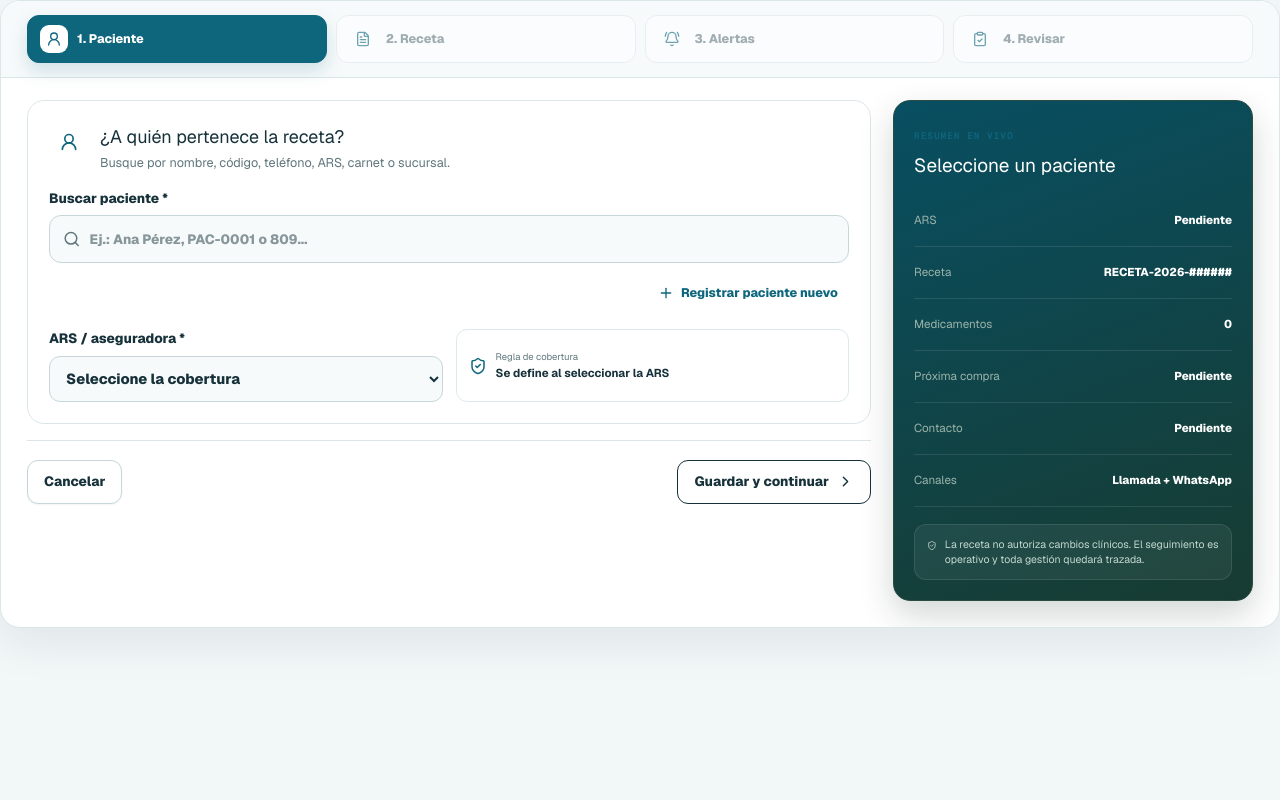
Test case: NewPlanWorkspace › selecciona un paciente canónico y muestra su capacidad de contacto
This screenshot has width=1280, height=800.
Type "ana" into the search field labelled "Buscar paciente".
click(462, 239); type("ana")  # box [89,230,835,249]
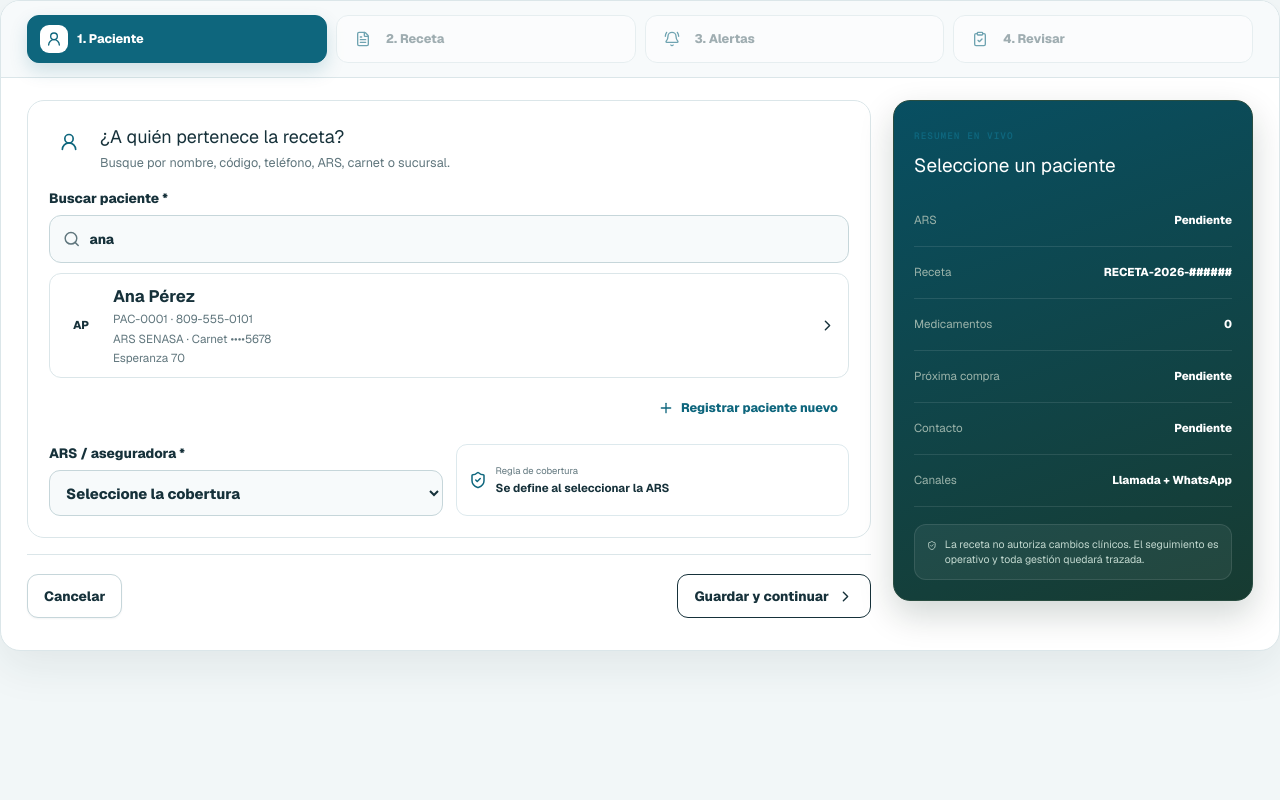
Click the button with aria-label "Seleccionar Ana Pérez".
click(154, 296)  # box [49,273,849,378]
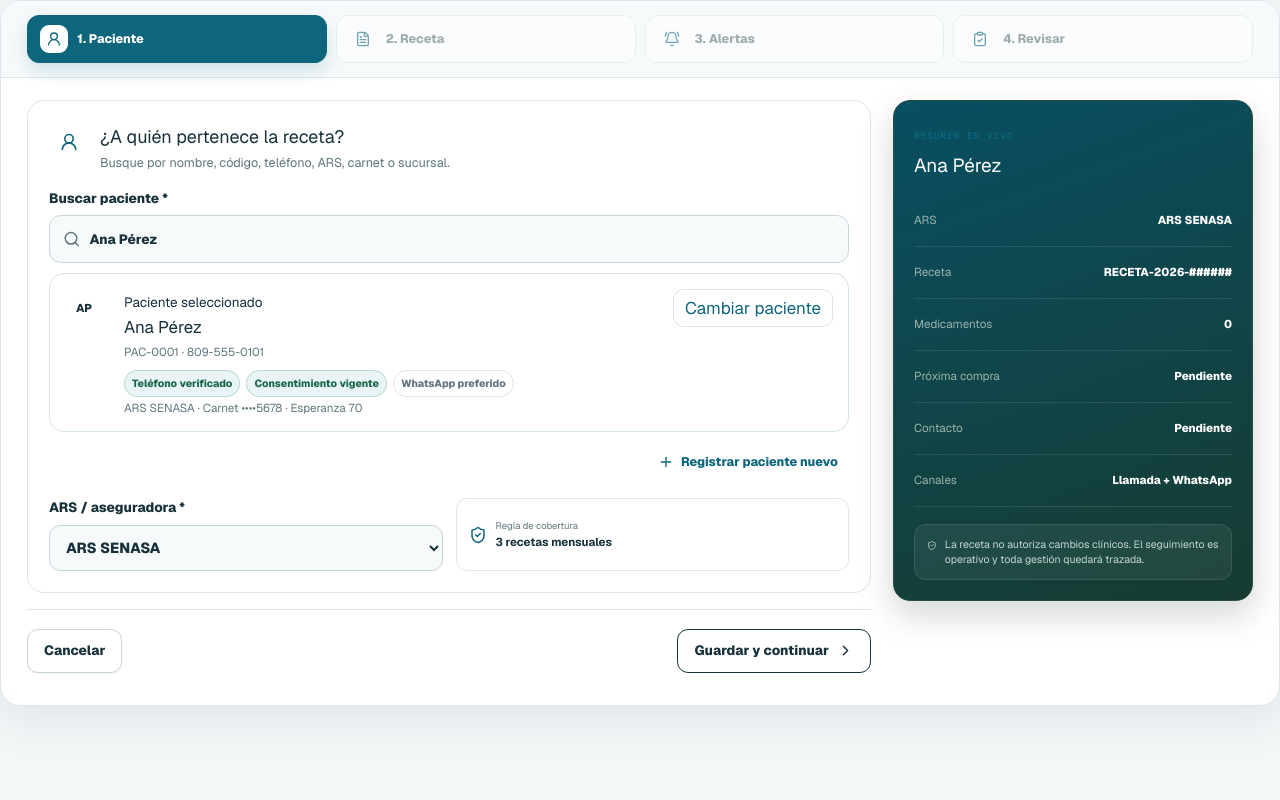
Result: the text "Paciente seleccionado" is shown at [124,293,262,311]
Result: the text "Teléfono verificado" is shown at [124,370,240,397]
Result: the text "Consentimiento vigente" is shown at [246,370,387,397]
